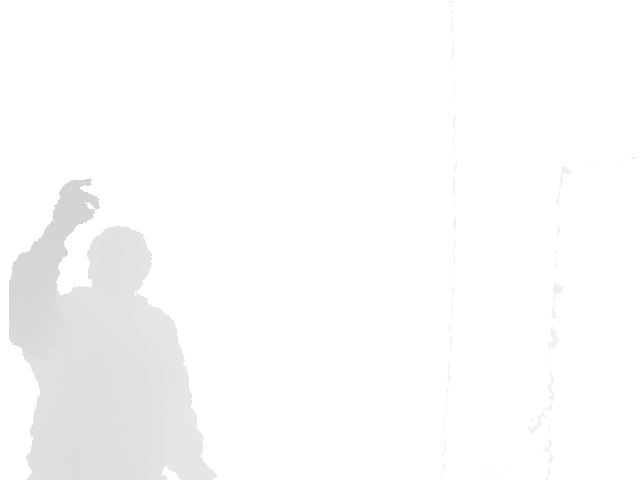hand: (51, 176, 101, 228)
head: (85, 225, 153, 302)
person: (8, 176, 221, 479)
